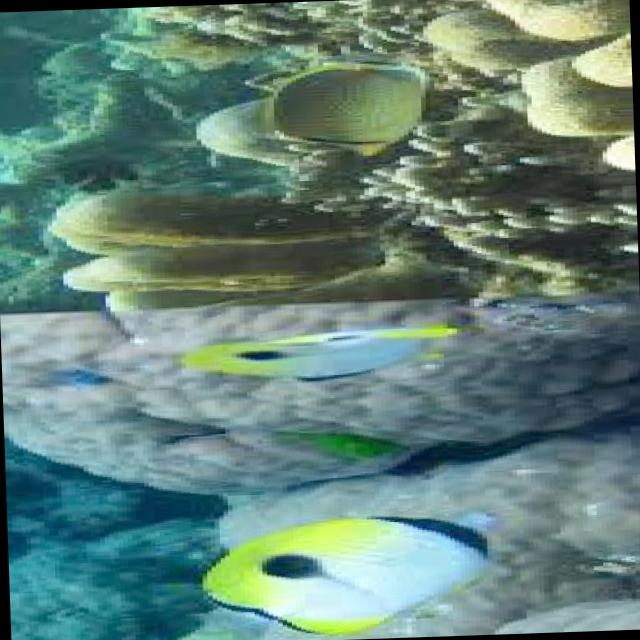ButterflyFish: (177, 508, 530, 640), (239, 59, 446, 174), (178, 309, 438, 381)
